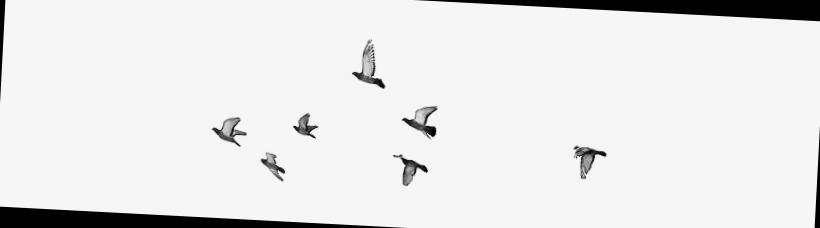bird: (336, 27, 396, 93), (561, 135, 614, 186), (394, 100, 456, 142), (380, 150, 442, 190), (205, 109, 252, 150), (253, 147, 291, 187), (286, 106, 326, 142)
